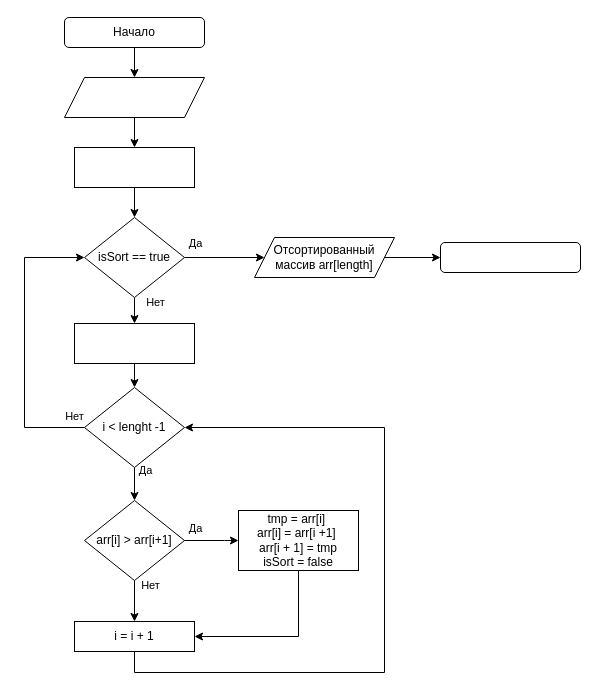
The diagram is 598 pixels wide and 698 high, and some of its shapes have lost their labels. Each missing label, with the box of its shape:
i = 0 isSort = false: (74, 146, 194, 188)
i = 0 isSort = true: (74, 322, 194, 364)
Конец: (440, 242, 580, 272)
Массив arr[length]: (64, 76, 204, 118)
